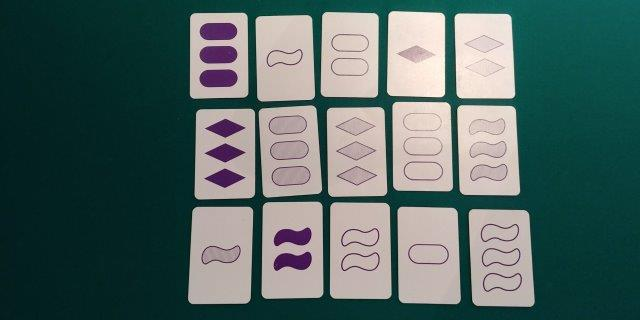1EP: (402, 212, 454, 299)
1EW: (258, 19, 308, 95)
1FD: (391, 14, 441, 94)
1HW: (194, 211, 245, 298)
2EP: (325, 15, 374, 93)
2EW: (332, 206, 385, 293)
2FW: (265, 204, 319, 296)
2HD: (458, 16, 509, 95)
3EP: (395, 103, 447, 188)
3EW: (475, 212, 526, 301)
3FD: (200, 112, 250, 195)
3FP: (193, 14, 244, 95)
3HD: (331, 110, 380, 193)
3HP: (263, 110, 315, 191)
3HW: (461, 109, 514, 190)
